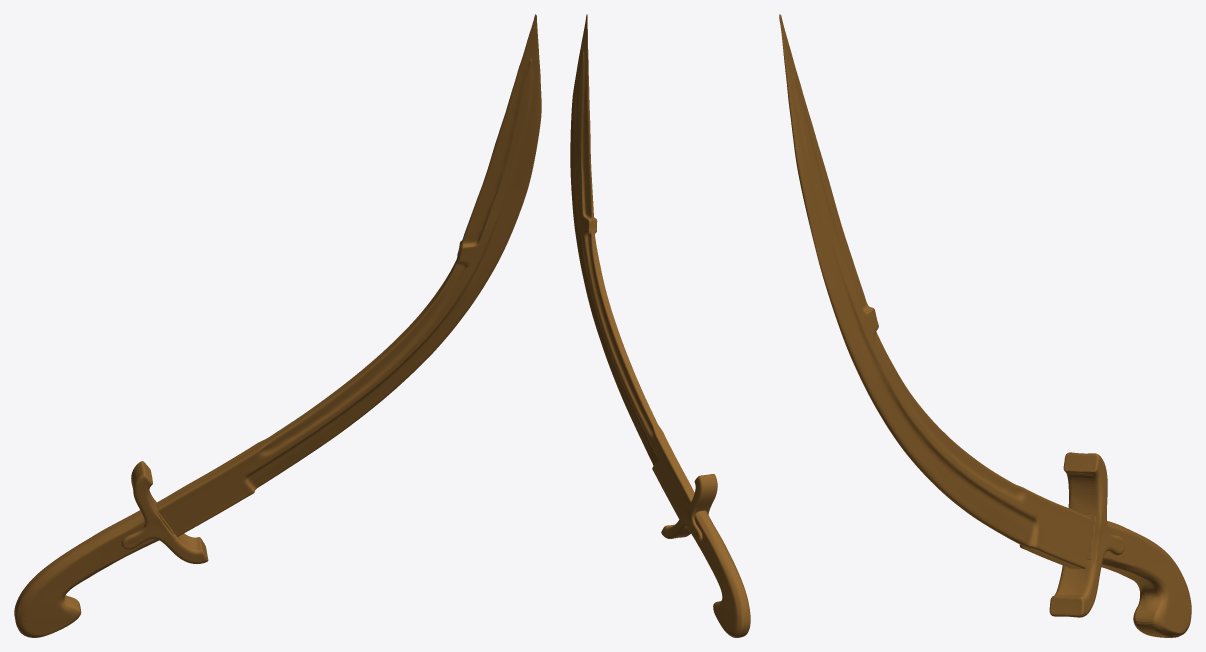
The model's file is COSSACK_WEAPON_14#3.glb.
3 views of the same model, side by side, from view 1: azimuth 30°, elevation 25°; view 2: azimuth 150°, elevation 25°; view 3: azimuth 270°, elevation 25° (orthographic). The views are drawn at different scales.
Parts seen in each view (by area): view 1: mech.001; view 2: mech.001; view 3: mech.001.
Boxes of the visible parts, bbox=[...] form: mech.001: bbox=[14, 14, 541, 637]; mech.001: bbox=[570, 14, 750, 637]; mech.001: bbox=[779, 14, 1191, 637].
Bounding box in the file's own units: 2.6 × 4.19 × 1.85.
